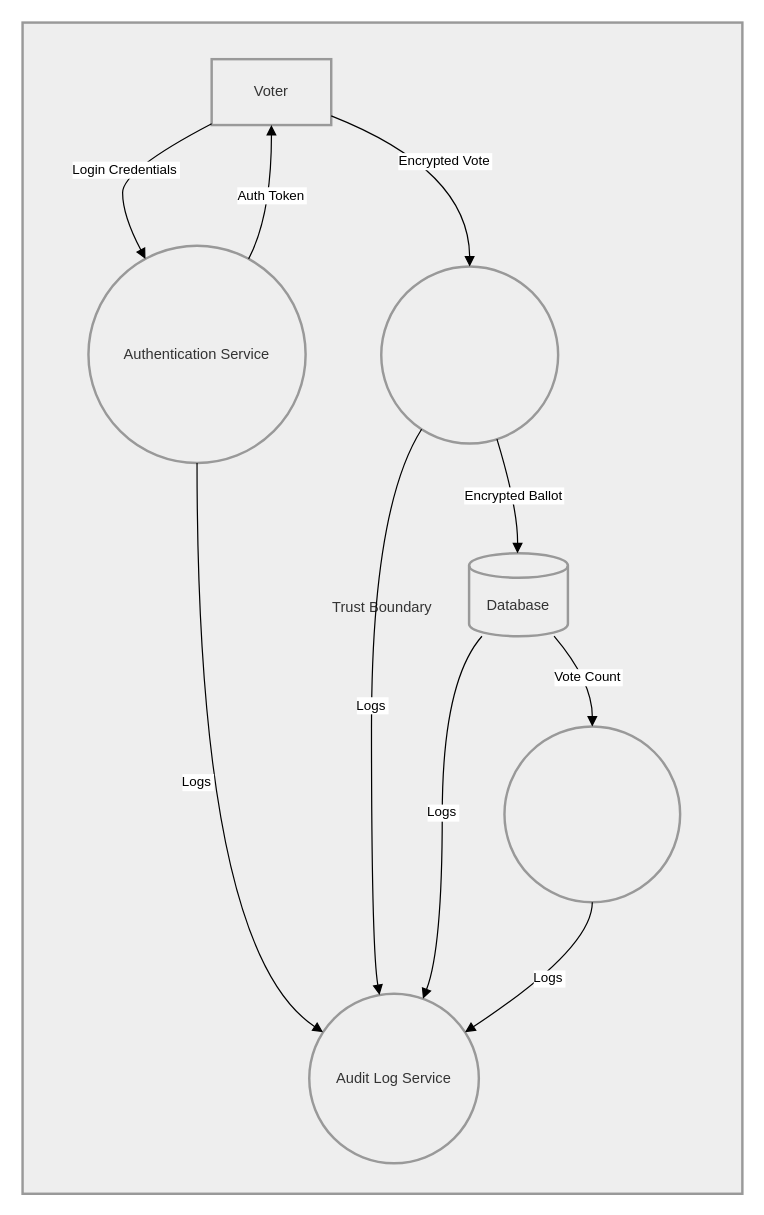
Some shapes in this 764 by 1215 pixel diagram are drawn without their labels. Each missing label, with the centre of its shape:
Results Dashboard: [592,814]
Voting Application: [469,354]
